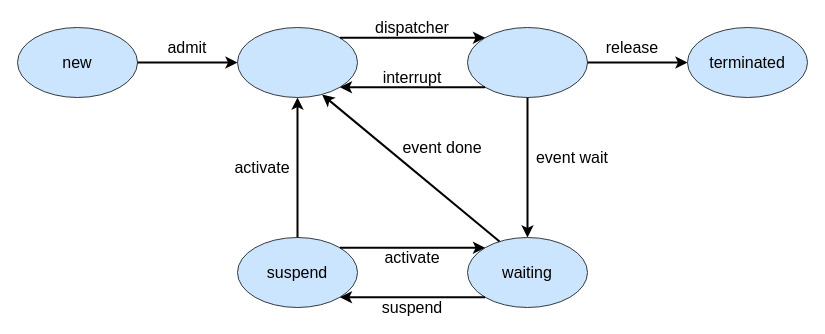
Some shapes in this 825 by 334 pixel diagram are drawn without their labels. The box of each missing label's shape, as (x1, y1, x2, y2) in pixels:
ready: (236, 26, 358, 98)
running: (466, 26, 588, 98)
